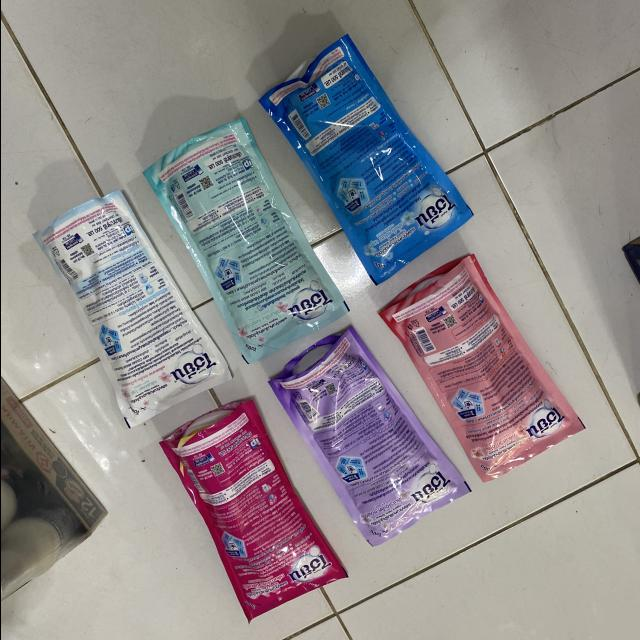plastik: (259, 35, 471, 284), (143, 119, 346, 364), (34, 191, 229, 427), (379, 256, 582, 482), (268, 327, 469, 545), (158, 400, 346, 620)
